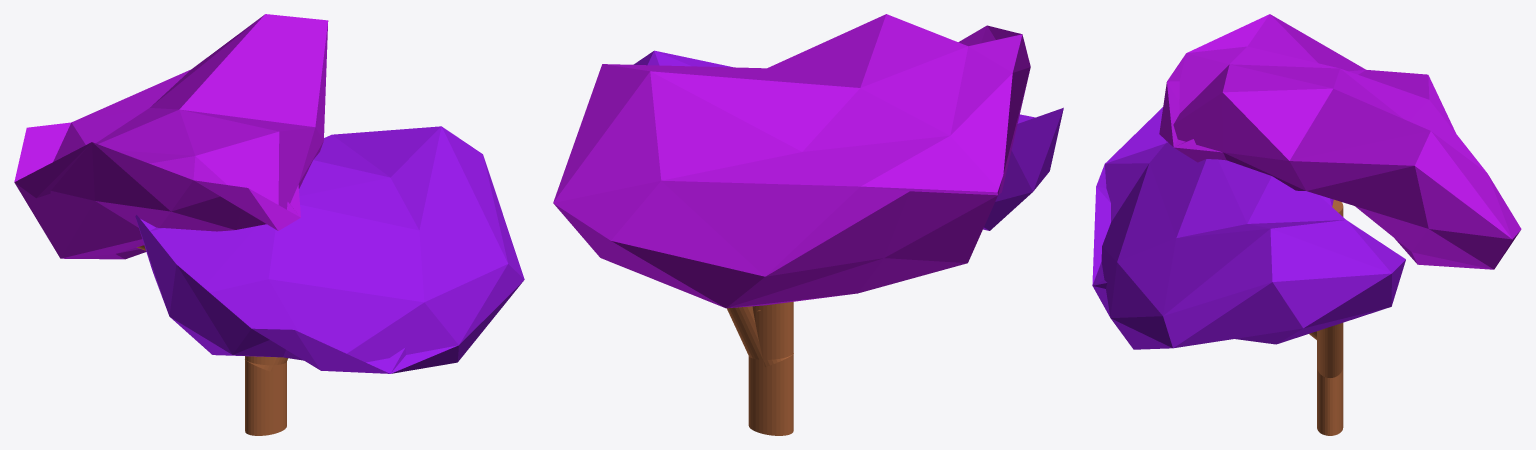
Rendered from arvore_roxa.fbx.
3 views of the same model, side by side, from view 1: azimuth 30°, elevation 25°; view 2: azimuth 150°, elevation 25°; view 3: azimuth 270°, elevation 25° (orthographic). The views are drawn at different scales.
Parts seen in each view (by area): view 1: Esfera icosaédrica.001, Esfera icosaédrica, Cilindro; view 2: Esfera icosaédrica, Cilindro, Esfera icosaédrica.001, Cilindro.001; view 3: Esfera icosaédrica, Esfera icosaédrica.001, Cilindro, Cilindro.001.
Boxes of the visible parts, left/top/right/bottom form: Esfera icosaédrica.001: left=135, top=126, right=524, bottom=373; Esfera icosaédrica: left=14, top=14, right=328, bottom=259; Cilindro: left=245, top=356, right=286, bottom=435; Esfera icosaédrica: left=553, top=14, right=1030, bottom=308; Cilindro: left=748, top=301, right=793, bottom=435; Esfera icosaédrica.001: left=633, top=50, right=1063, bottom=230; Cilindro.001: left=727, top=306, right=793, bottom=367; Esfera icosaédrica: left=1159, top=14, right=1521, bottom=269; Esfera icosaédrica.001: left=1092, top=107, right=1405, bottom=349; Cilindro: left=1317, top=199, right=1343, bottom=435; Cilindro.001: left=1317, top=323, right=1343, bottom=377.
Bounding box in the file's own units: 729 × 606 × 730.
